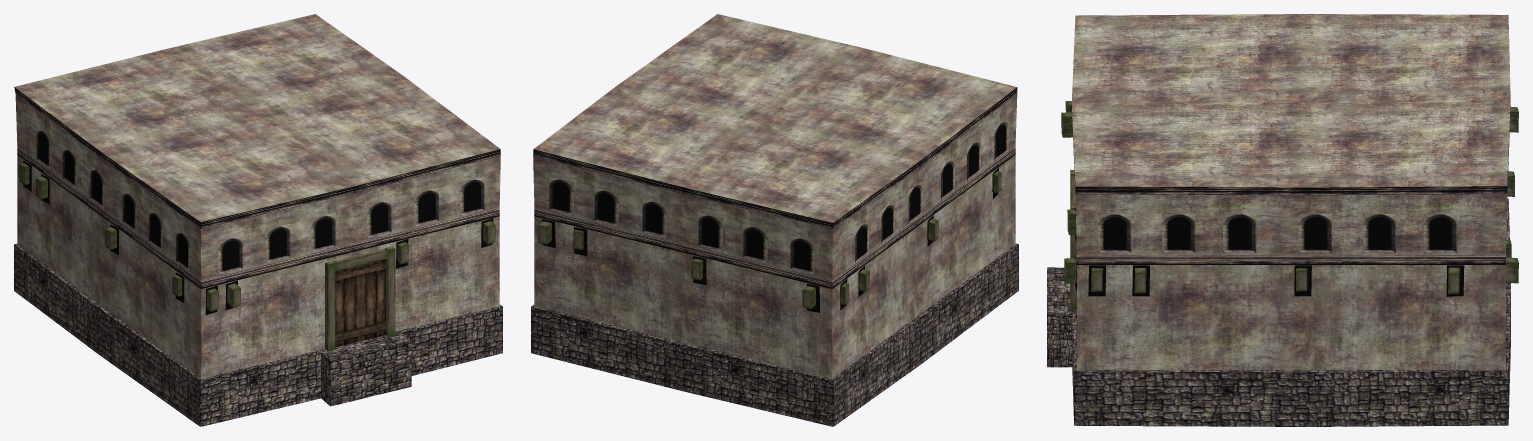
The model's file is fort_eitc.fbx.
The picture shows the model from 3 angles, left to right: view 1: azimuth 30°, elevation 25°; view 2: azimuth 150°, elevation 25°; view 3: azimuth 270°, elevation 25°; orthographic projection. The views are drawn at different scales.
Parts seen in each view (by area): view 1: barracks2, steps, door_left, doorframe, window19, window20, window17, window16, window18, window15, window25, window23 (+4 smaller); view 2: barracks2, window4, window5, window3, window8, window7, window6, window24, window26, window25, window21, window22 (+1 smaller); view 3: barracks2, steps, window14, window13, window12, window11, window9, window10, doorframe.
Part boxes in pixels (x1,y1,x2,y2): barracks2: (14, 14, 502, 426); steps: (321, 333, 411, 406); door_left: (335, 259, 385, 347); doorframe: (325, 246, 395, 351); window19: (265, 224, 290, 262); window20: (218, 235, 242, 274); window17: (367, 199, 391, 238); window16: (414, 187, 438, 226); window18: (311, 213, 335, 251); window15: (460, 176, 484, 215); window25: (62, 145, 76, 188); window23: (122, 189, 136, 232); barracks2: (531, 14, 1018, 426); window4: (594, 187, 618, 226); window5: (642, 199, 666, 237); window3: (549, 176, 573, 215); window8: (790, 235, 814, 274); window7: (743, 224, 767, 262); window6: (698, 212, 722, 251); window24: (908, 180, 922, 223); window26: (855, 220, 869, 262); window25: (881, 201, 895, 243); window21: (994, 118, 1008, 160); window22: (967, 138, 980, 180); barracks2: (1071, 14, 1510, 426); steps: (1047, 267, 1072, 367); window14: (1098, 213, 1131, 252); window13: (1162, 213, 1195, 252); window12: (1223, 213, 1256, 252); window11: (1298, 213, 1331, 252); window9: (1423, 213, 1456, 252); window10: (1363, 213, 1395, 252); doorframe: (1070, 170, 1076, 309).
Size of the model in its own units: 4172 by 2574 by 4616.
5 materials, 5 textured.
